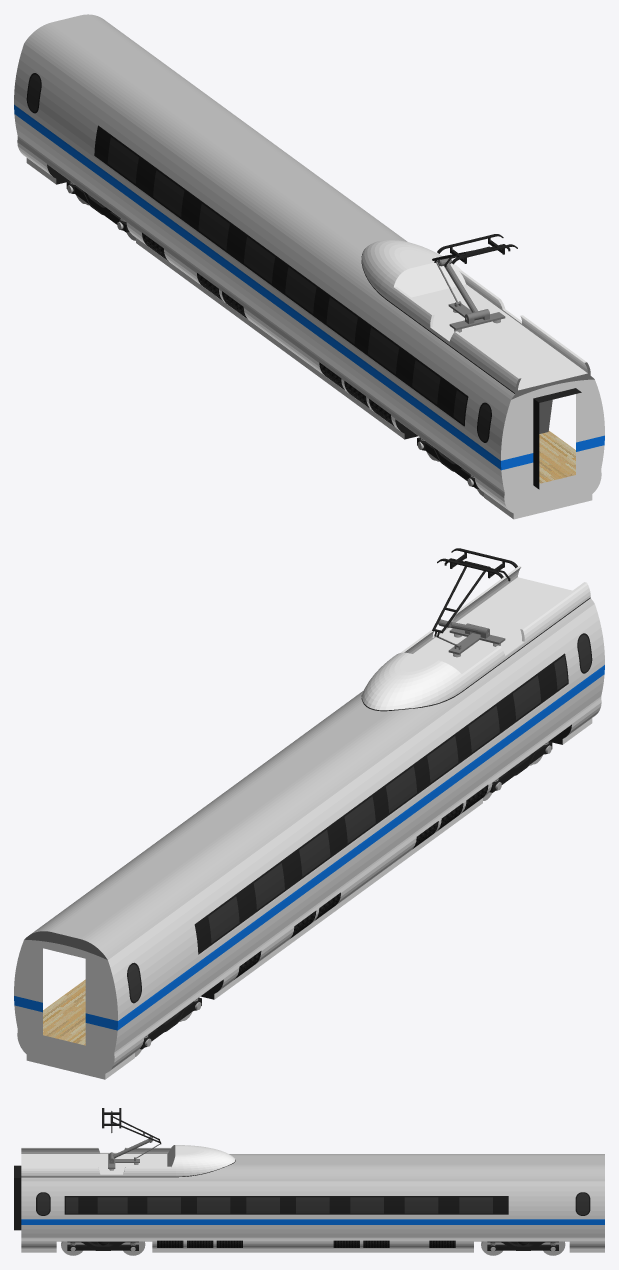
The model's file is VELARO-simple-car3.glb.
3 views of the same model, one above another, from view 1: azimuth 30°, elevation 25°; view 2: azimuth 150°, elevation 25°; view 3: azimuth 270°, elevation 25° (orthographic). The views are drawn at different scales.
Parts seen in each view (by area): view 1: 6um4mu; view 2: 6um4mu; view 3: 6um4mu.
Boxes of the visible parts, box(x1,y1,x2,y2) form: 6um4mu: box(14, 14, 604, 519); 6um4mu: box(14, 548, 604, 1079); 6um4mu: box(14, 1108, 604, 1252).
Size of the model in its own units: 2.94 by 5.99 by 24.16.
12 materials, 2 textured.
